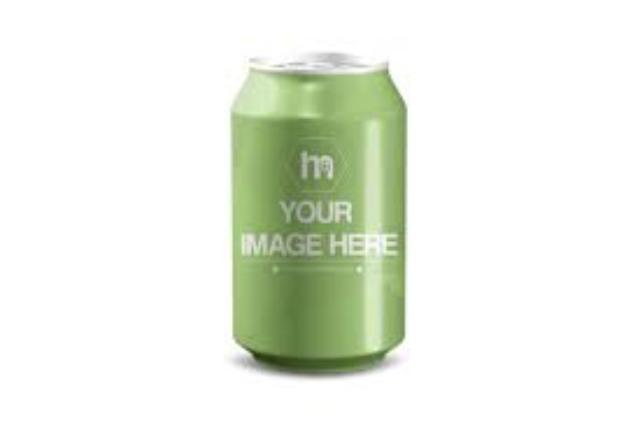metal: (230, 51, 400, 365)
